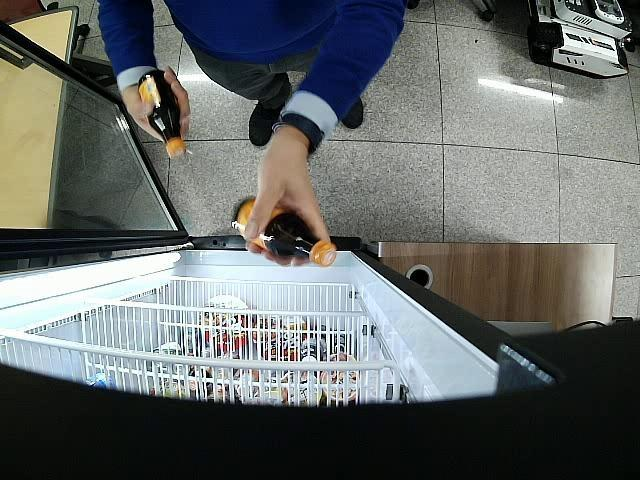17_vita500: (232, 197, 337, 266), (137, 68, 188, 158)
